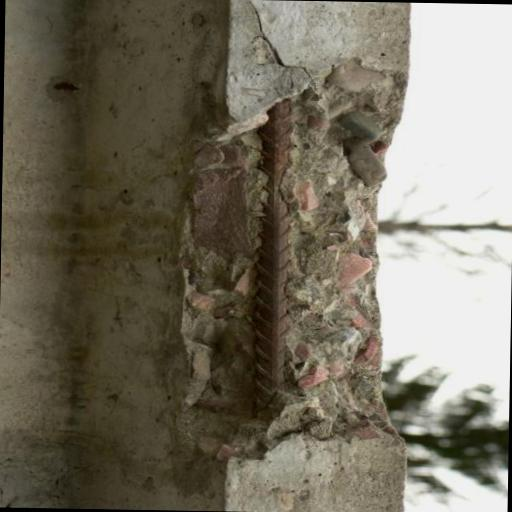spalling: (186, 68, 410, 440)
